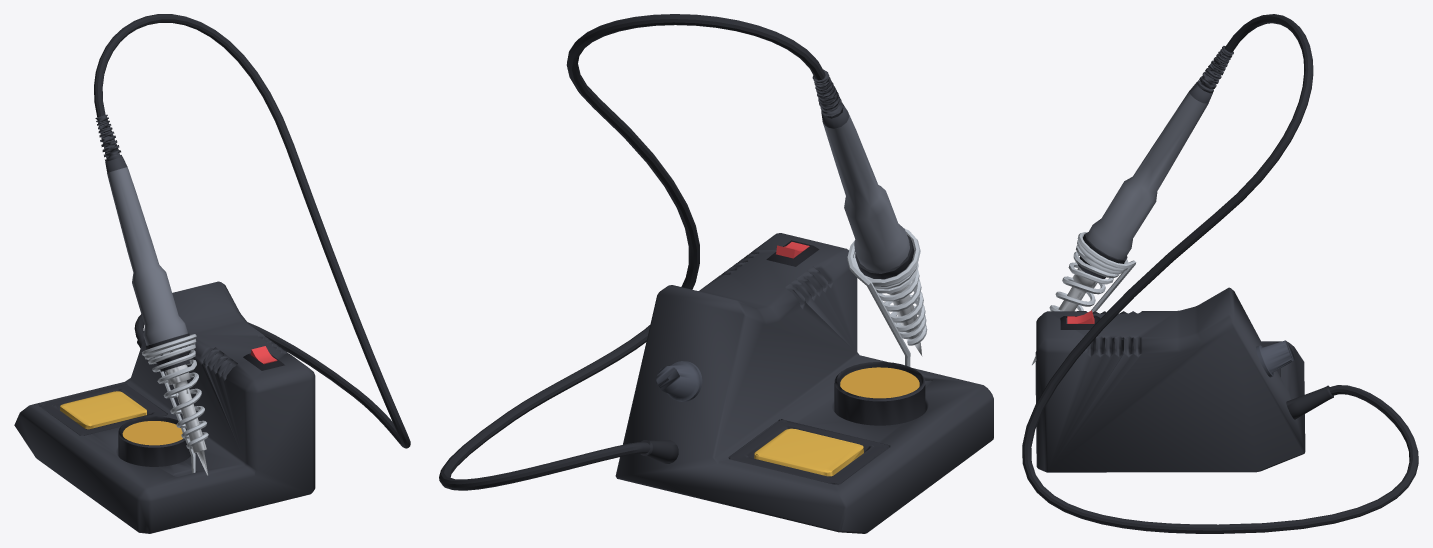
File: solder_model.glb
3 views of the same model, side by side, from view 1: azimuth 30°, elevation 25°; view 2: azimuth 150°, elevation 25°; view 3: azimuth 270°, elevation 25° (orthographic). The views are drawn at different scales.
Visible parts, largest first — view 1: solder_base, solder_iron, solder_tip; view 2: solder_base, solder_iron, solder_knob; view 3: solder_base, solder_iron, solder_knob, solder_tip.
Part boxes in pixels (left/top/right/bottom): solder_base: left=14, top=14, right=410, bottom=533; solder_iron: left=95, top=114, right=190, bottom=371; solder_tip: left=165, top=364, right=207, bottom=475; solder_base: left=439, top=14, right=993, bottom=533; solder_iron: left=812, top=69, right=914, bottom=279; solder_knob: left=656, top=361, right=702, bottom=401; solder_base: left=1022, top=14, right=1418, bottom=533; solder_iron: left=1077, top=46, right=1233, bottom=278; solder_knob: left=1256, top=340, right=1294, bottom=377; solder_tip: left=1032, top=267, right=1097, bottom=364.
Bounding box in the file's own units: 0.1952 × 0.2443 × 0.209.
Materials: 2 (1 with a texture image).
